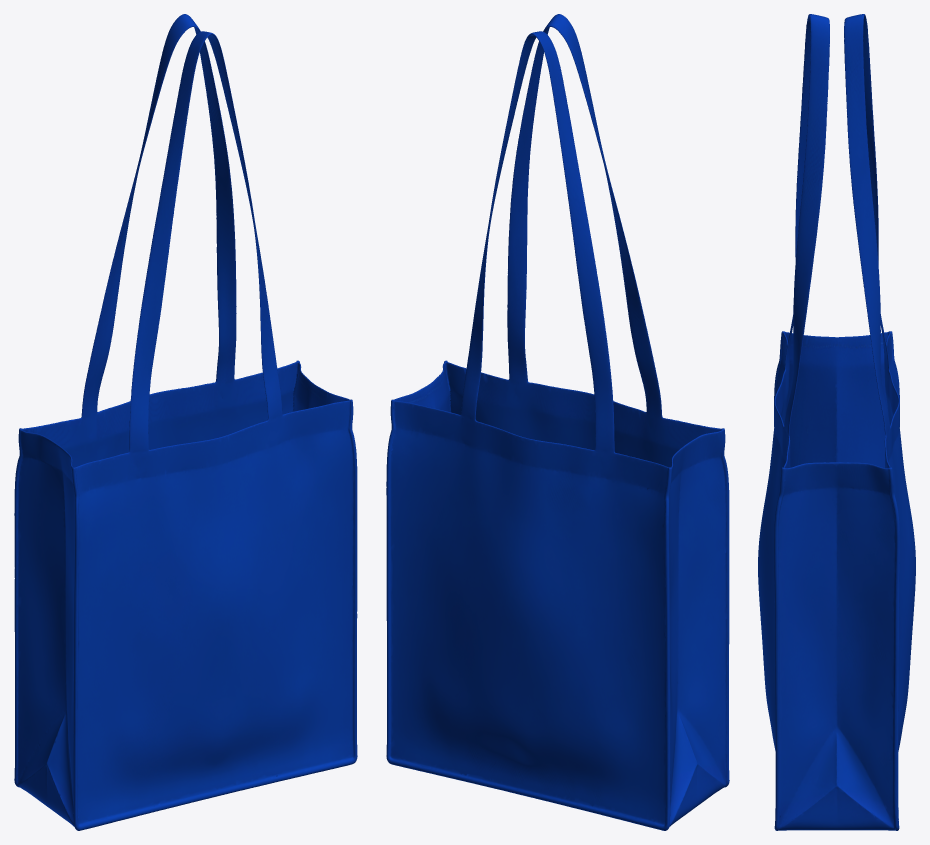
File: Reusable_Bag_Small.glb
3 views of the same model, side by side, from view 1: azimuth 30°, elevation 25°; view 2: azimuth 150°, elevation 25°; view 3: azimuth 270°, elevation 25° (orthographic).
Parts seen in each view (by area): view 1: Reusable_Shopping_Bag.002; view 2: Reusable_Shopping_Bag.002; view 3: Reusable_Shopping_Bag.002.
Part boxes in pixels (left/top/right/bottom): Reusable_Shopping_Bag.002: left=14, top=14, right=357, bottom=830; Reusable_Shopping_Bag.002: left=386, top=14, right=729, bottom=830; Reusable_Shopping_Bag.002: left=758, top=14, right=915, bottom=830.
Bounding box in the file's own units: 0.2089 × 0.5293 × 0.1003.
Materials: 1 (1 with a texture image).
